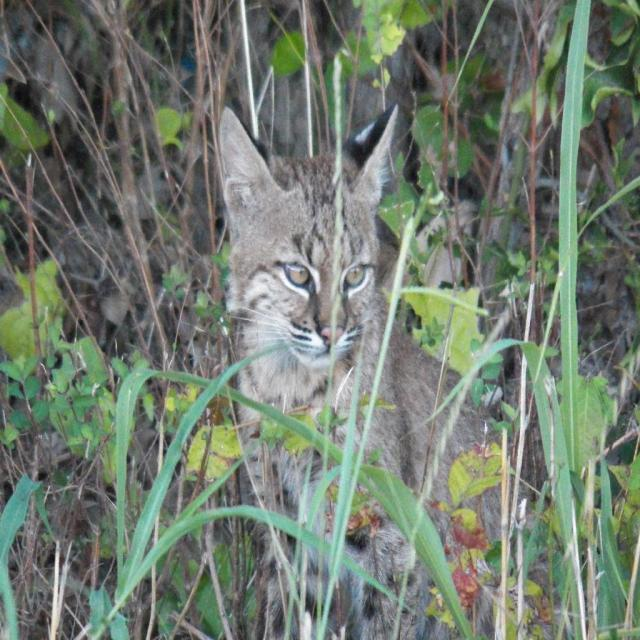Cat: (222, 103, 558, 638)
